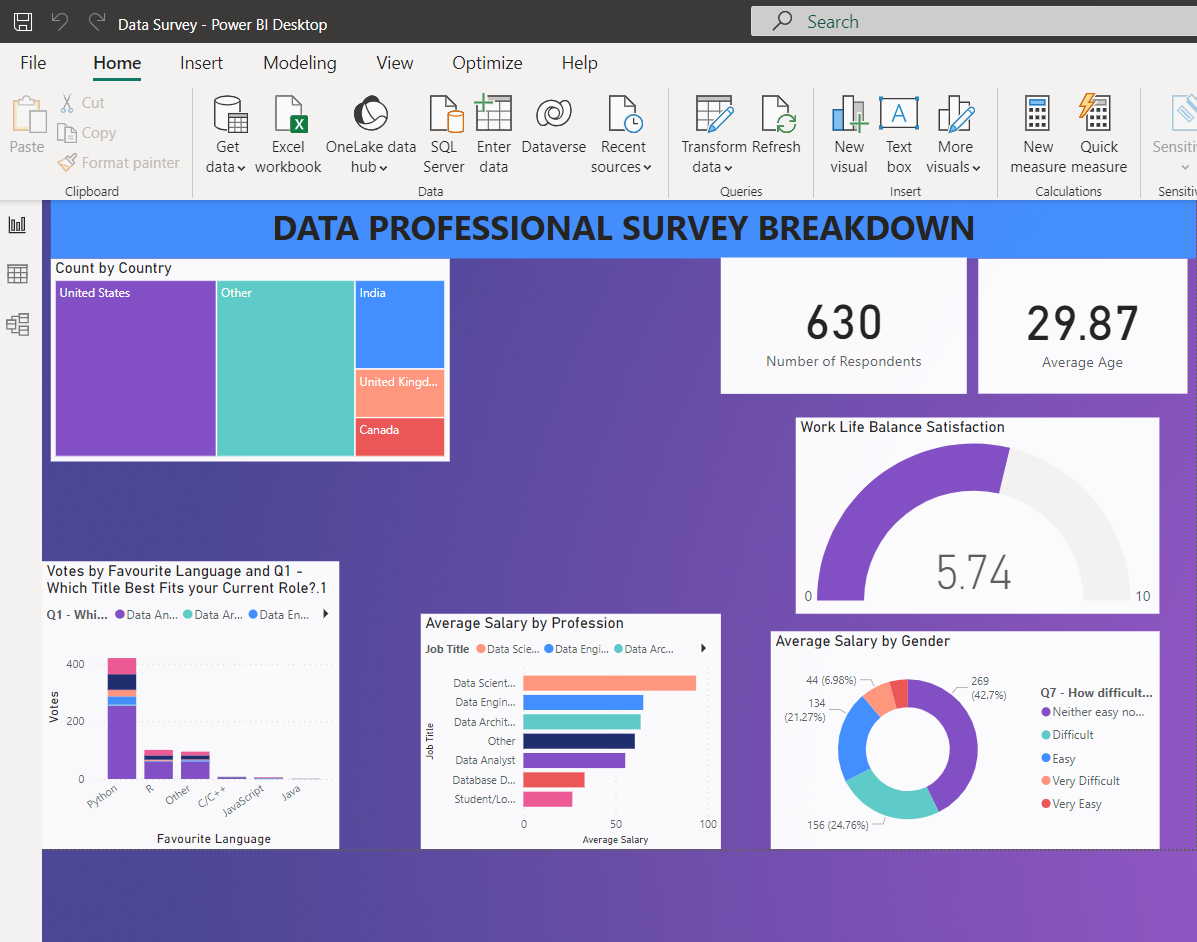

This screenshot's page, from the dashboard's own definition file:
{"tool":"powerbi","page":{"name":"Page 1","canvas":[1280,720],"ordinal":0},"visuals":[{"type":"textbox","box":[9.6,0,1271,64.4],"z":0},{"type":"card","fields":{"Values":["CountNonNull(Data Professional Survey.Unique ID)"]},"box":[752.7,64.4,272.8,150.8],"z":1000},{"type":"card","fields":{"Values":["Avg(Data Professional Survey.Q10 - Current Age)"]},"box":[1037.9,65.8,231.7,149.4],"z":2000},{"type":"barChart","title":"Average Salary by Profession","fields":{"Category":["Data Professional Survey.Q1 - Which Title Best Fits your Current Role?.1"],"Y":["Avg(Data Professional Survey.Average Salary)"],"Series":["Data Professional Survey.Q1 - Which Title Best Fits your Current Role?.1"]},"box":[419.9,458.7,332.6,261.9],"z":3000},{"type":"columnChart","fields":{"Category":["Data Professional Survey.Q5 - Favorite Programming Language.1"],"Y":["CountNonNull(Data Professional Survey.Unique ID)"],"Series":["Data Professional Survey.Q1 - Which Title Best Fits your Current Role?.1"]},"box":[0,400.5,329.8,320.1],"z":4000},{"type":"treemap","title":"Count by Country","fields":{"Group":["Data Professional Survey.Q11 - Which Country do you live in?.1"],"Values":["CountNonNull(Data Professional Survey.Q11 - Which Country do you live in?.1)"]},"box":[9.7,65.1,442.1,224.5],"z":5000},{"type":"gauge","title":"Work Life Balance Satisfaction","fields":{"Y":["Avg(Data Professional Survey.Q6 - How Happy are you in your Current Position with the following? (Work/Life Balance))"],"MinValue":["Min(Data Professional Survey.Q6 - How Happy are you in your Current Position with the following? (Work/Life Balance))1"],"MaxValue":["Max(Data Professional Survey.Q6 - How Happy are you in your Current Position with the following? (Work/Life Balance))2"]},"box":[835.7,241.1,403.3,217.6],"z":6000},{"type":"donutChart","title":"Average Salary by Gender","fields":{"Category":["Data Professional Survey.Q7 - How difficult was it for you to break into Data?"],"Y":["CountNonNull(Data Professional Survey.Q7 - How difficult was it for you to break into Data?)"]},"box":[808,478.1,431,242.5],"z":7000}]}

Visuals, with their boxes in screenshot pixels (x1, y1, x2, y2):
textbox: l=55, t=0, r=1186, b=39
card - CountNonNull(Data Professional Survey.Unique ID): l=716, t=39, r=959, b=173
card - Avg(Data Professional Survey.Q10 - Current Age): l=970, t=40, r=1176, b=173
"Average Salary by Profession" barChart: l=420, t=389, r=716, b=622
columnChart - Data Professional Survey.Q5 - Favorite Programming Language.1 x CountNonNull(Data Professional Survey.Unique ID): l=47, t=338, r=340, b=622
"Count by Country" treemap: l=55, t=39, r=449, b=239
"Work Life Balance Satisfaction" gauge: l=790, t=196, r=1149, b=389
"Average Salary by Gender" donutChart: l=766, t=407, r=1149, b=622
